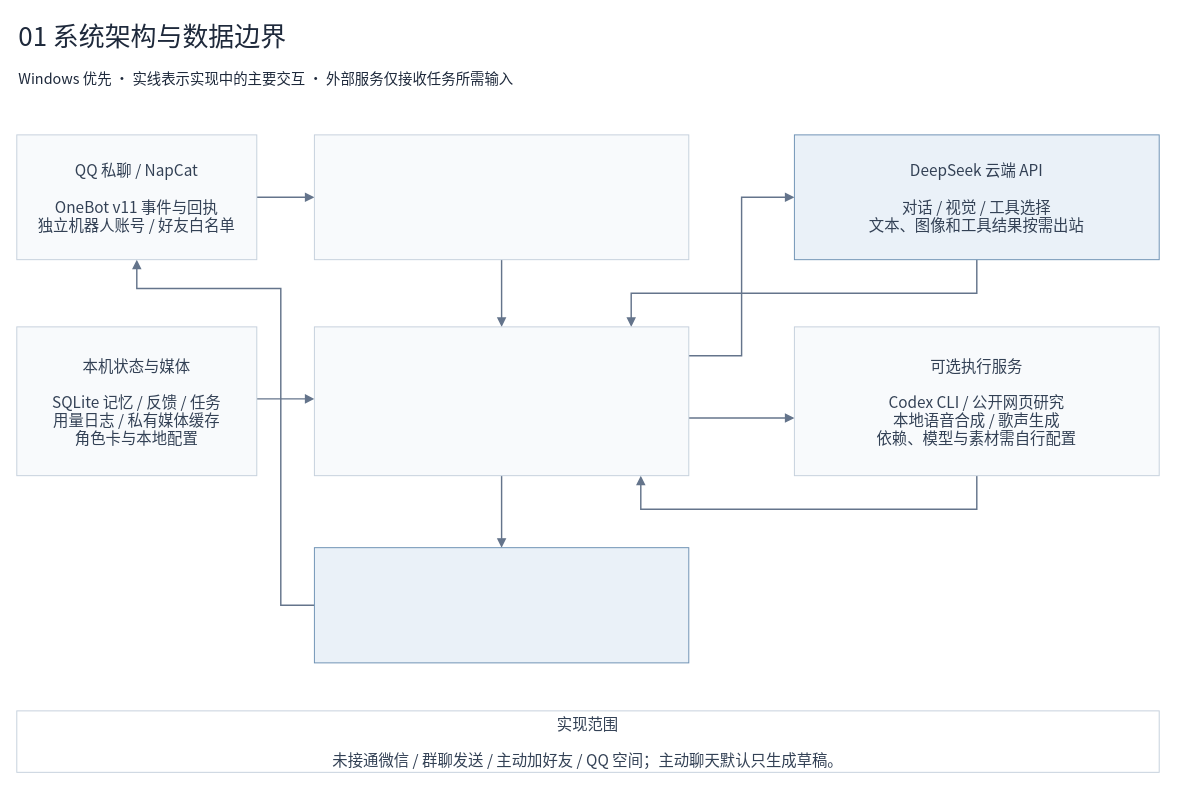
Image size: 1186x789. Some labels were removed from this diagram. The shapes that lost their labels are listed below. From the top down, each one's box as (x1, y1, x2, y2) in pixels, then its label:
(313, 134, 689, 260): 本机服务与传输层 phone_server → qq_routes → QQBridge 身份 / epoch / 去重 / 合并 / 媒体预处理
(313, 326, 689, 476): 会话编排 QQConversation 人格与同联系人上下文 本轮意图 / 权限 / 工具约束 输出校验与分包
(313, 547, 689, 663): 逐包发送与确认 每包重验接收范围 QQ message_id → 确认历史与回执
